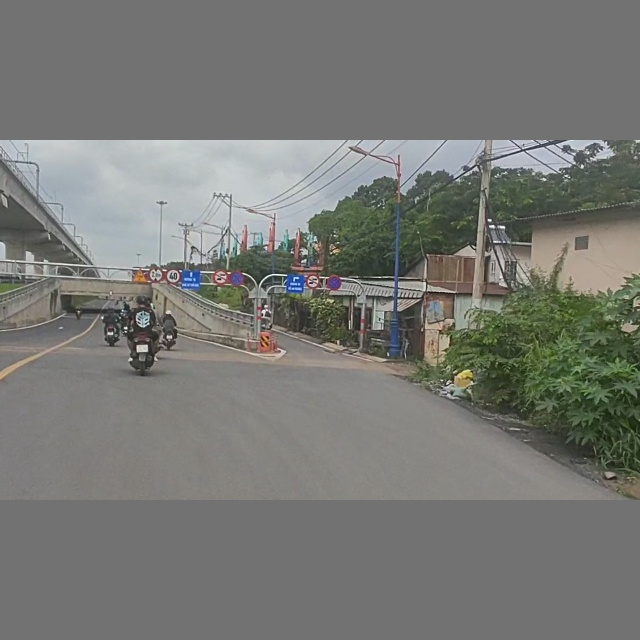P.107: (212, 269, 229, 285), (305, 275, 321, 289)
P.117*: (149, 267, 163, 283)
P.127*40: (165, 269, 181, 283)
P.130: (230, 271, 245, 286), (327, 275, 341, 290)
W.239b*: (131, 268, 149, 284)
